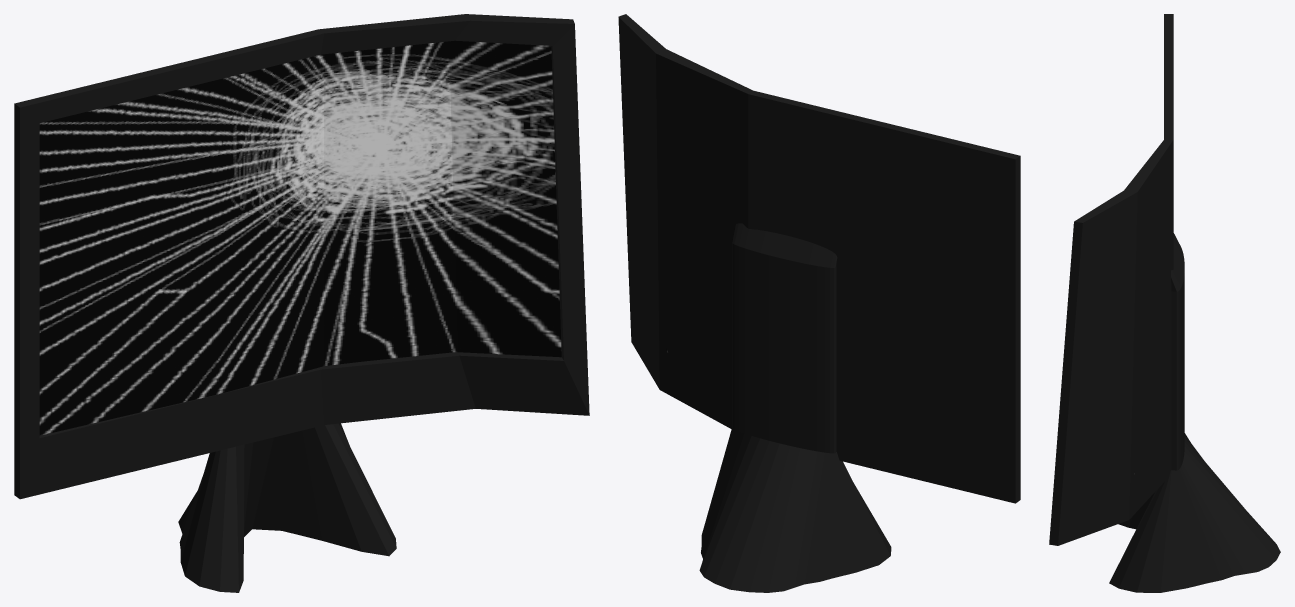
The model's file is screen_broken.fbx.
The picture shows the model from 3 angles, left to right: view 1: azimuth 30°, elevation 25°; view 2: azimuth 150°, elevation 25°; view 3: azimuth 270°, elevation 25°; orthographic projection. The views are drawn at different scales.
Parts seen in each view (by area): view 1: Plane.001, Cube.001, Cylinder.006; view 2: Cube.001, Cylinder.006; view 3: Cube.001, Cylinder.006.
Boxes of the visible parts, left/top/right/bottom form: Plane.001: left=39, top=40, right=561, bottom=435; Cube.001: left=14, top=14, right=589, bottom=499; Cylinder.006: left=178, top=423, right=396, bottom=592; Cube.001: left=618, top=14, right=1020, bottom=503; Cylinder.006: left=699, top=223, right=891, bottom=592; Cube.001: left=1049, top=14, right=1173, bottom=545; Cylinder.006: left=1109, top=233, right=1280, bottom=592.
Bounding box in the file's own units: 857 × 822 × 402.
